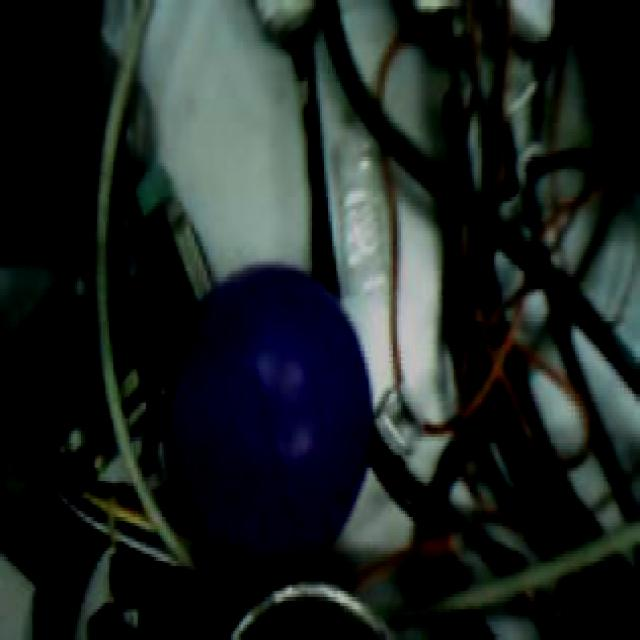BallPurple: (166, 264, 374, 580)
